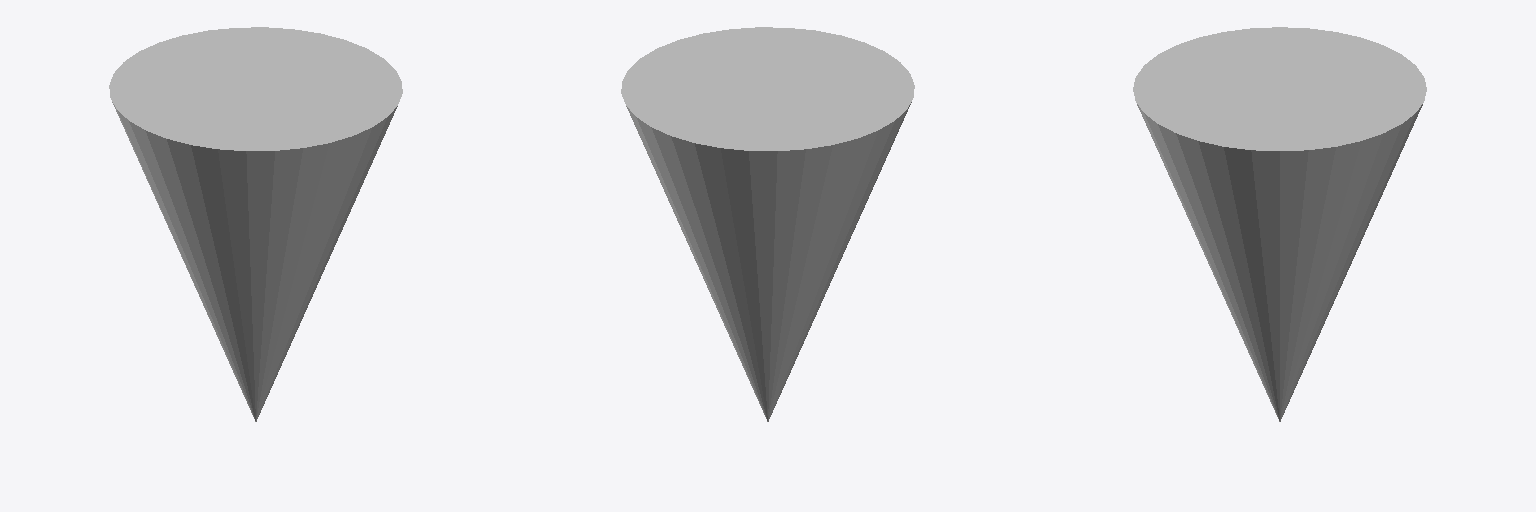
The model's file is single_vertex.obj.
3 views of the same model, side by side, from view 1: azimuth 30°, elevation 25°; view 2: azimuth 150°, elevation 25°; view 3: azimuth 270°, elevation 25° (orthographic).
Parts seen in each view (by area): view 1: Cone; view 2: Cone; view 3: Cone.
Boxes of the visible parts, x1,y1,x2,y2 form: Cone: [109, 27, 402, 421]; Cone: [621, 27, 914, 421]; Cone: [1133, 27, 1426, 421].
Bounding box in the file's own units: 0.004 × 0.005 × 0.004.